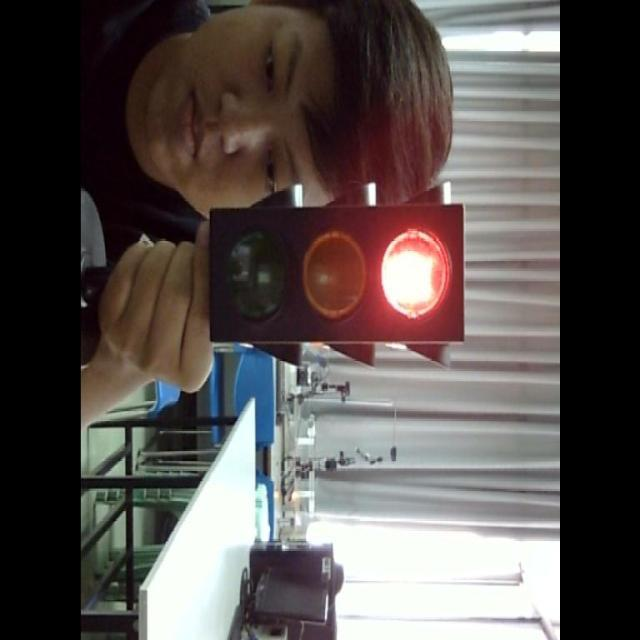red light: (372, 214, 458, 345)
